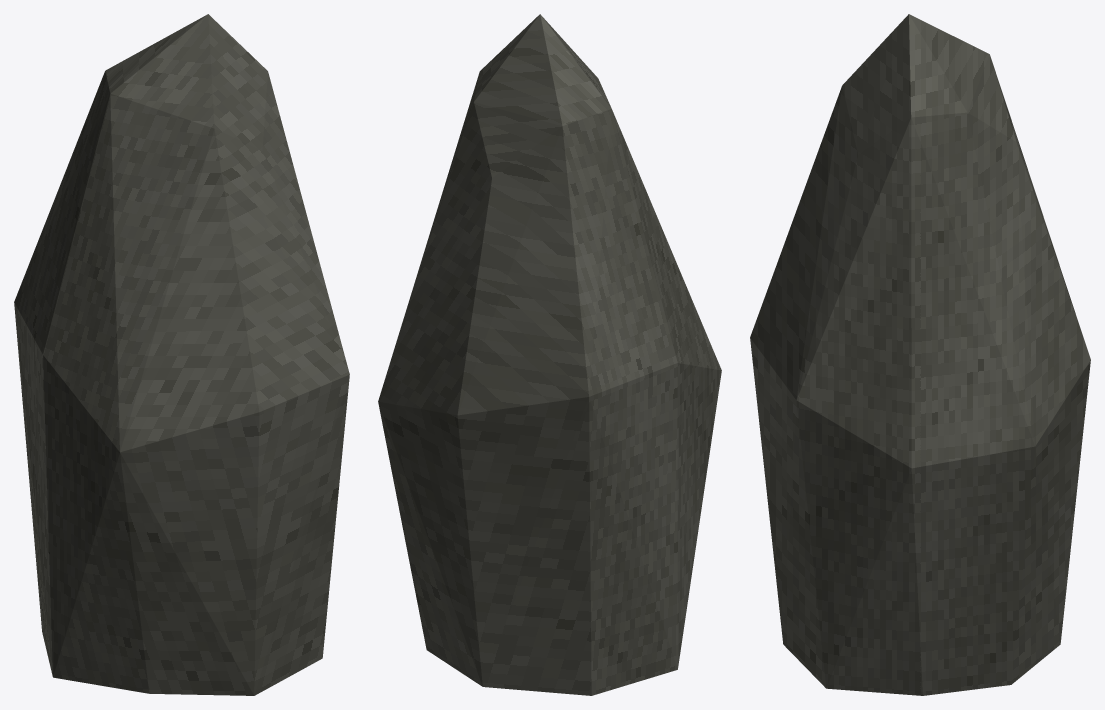
Rendered from env_rocks_04_standing_rock.glb.
The picture shows the model from 3 angles, left to right: view 1: azimuth 30°, elevation 25°; view 2: azimuth 150°, elevation 25°; view 3: azimuth 270°, elevation 25°; orthographic projection. The views are drawn at different scales.
Visible parts, largest first — view 1: solid; view 2: solid; view 3: solid.
Part boxes in pixels (box(x1,y1,x2,y2)): solid: box(14, 14, 349, 695); solid: box(378, 14, 721, 695); solid: box(750, 14, 1090, 695).
Bounding box in the file's own units: 0.6864 × 1.45 × 0.7016.
Materials: 1 (1 with a texture image).
